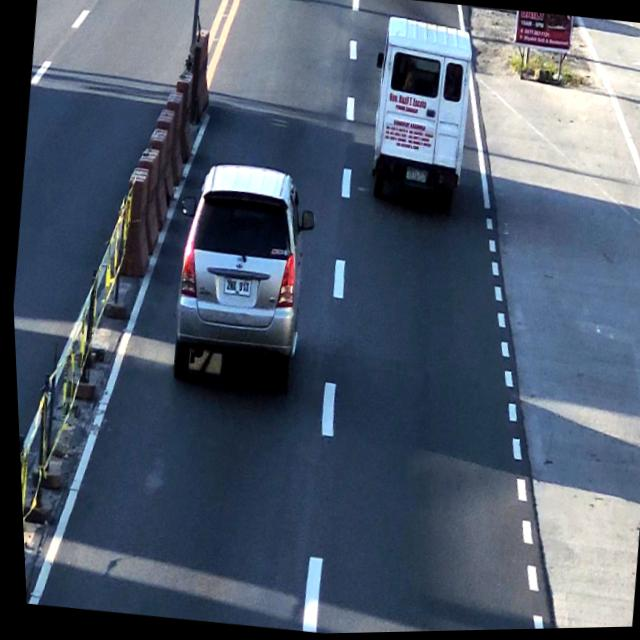Car: (162, 155, 316, 393), (365, 19, 480, 208)
License-Plate: (218, 276, 252, 302), (401, 162, 428, 187)
